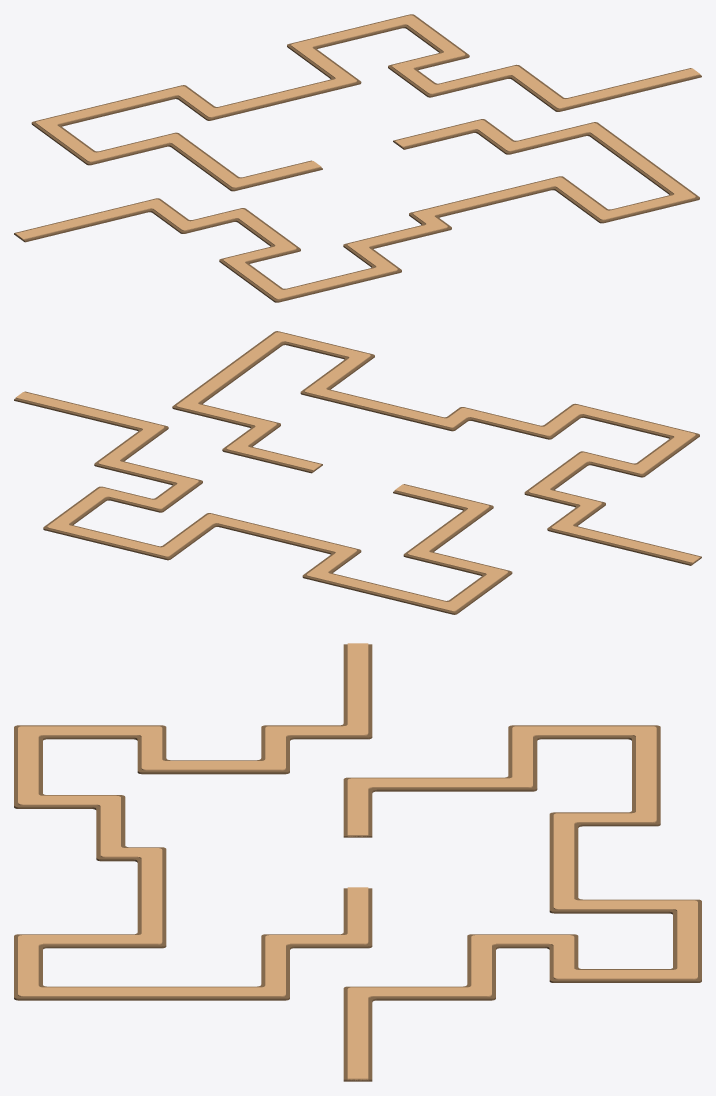
Rendered from enemy.way.fbx.
The picture shows the model from 3 angles, top to bottom: view 1: azimuth 30°, elevation 25°; view 2: azimuth 150°, elevation 25°; view 3: azimuth 270°, elevation 25°; orthographic projection. The views are drawn at different scales.
Visible parts, largest first — view 1: enemy.road; view 2: enemy.road; view 3: enemy.road.
Boxes of the visible parts, left/top/right/bottom form: enemy.road: left=14, top=14, right=701, bottom=302; enemy.road: left=14, top=331, right=701, bottom=614; enemy.road: left=14, top=643, right=701, bottom=1081.
Size of the model in its own units: 5000 by 14.82 by 3340.
